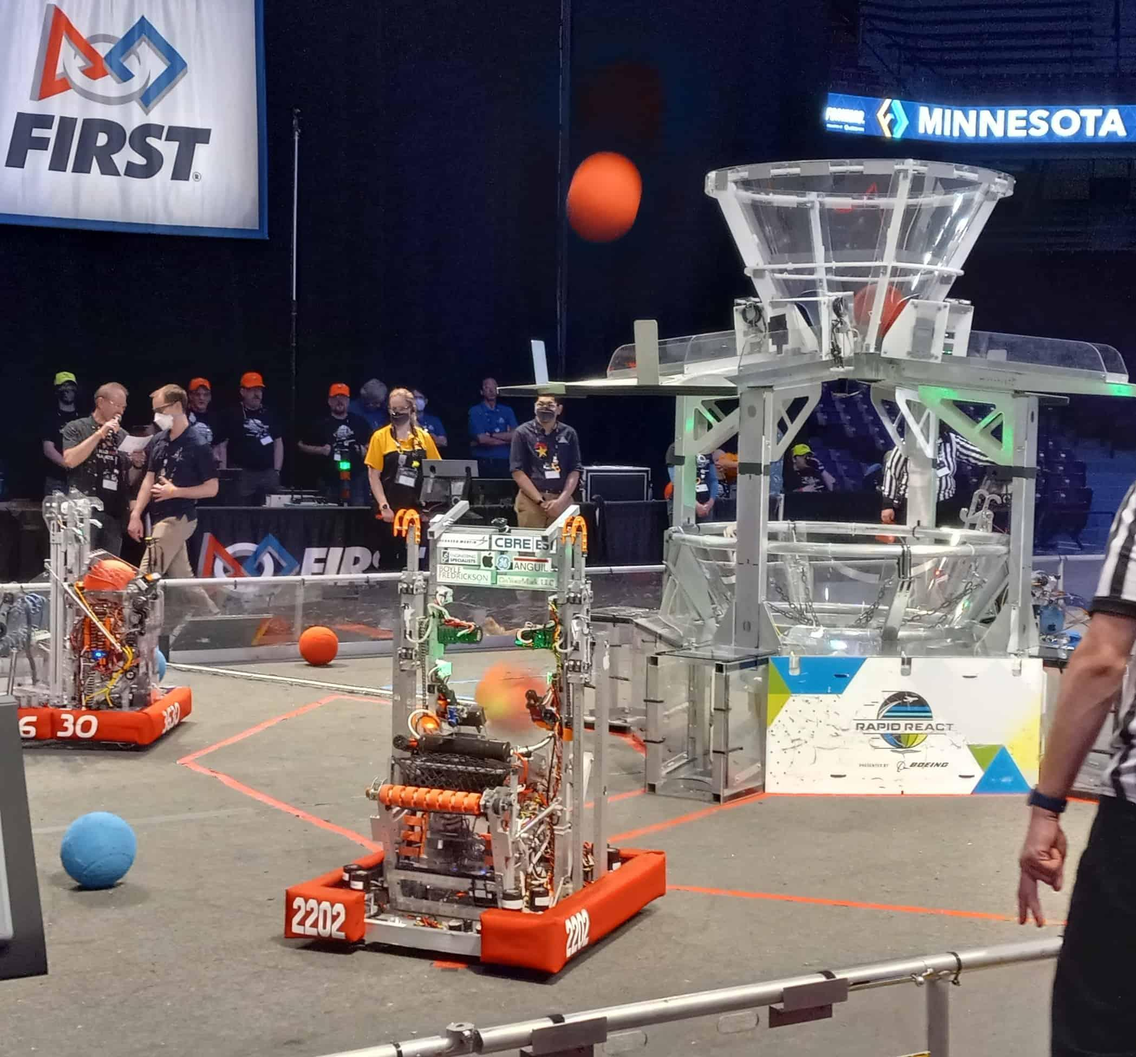robot: (282, 451, 671, 984), (0, 487, 199, 755)
